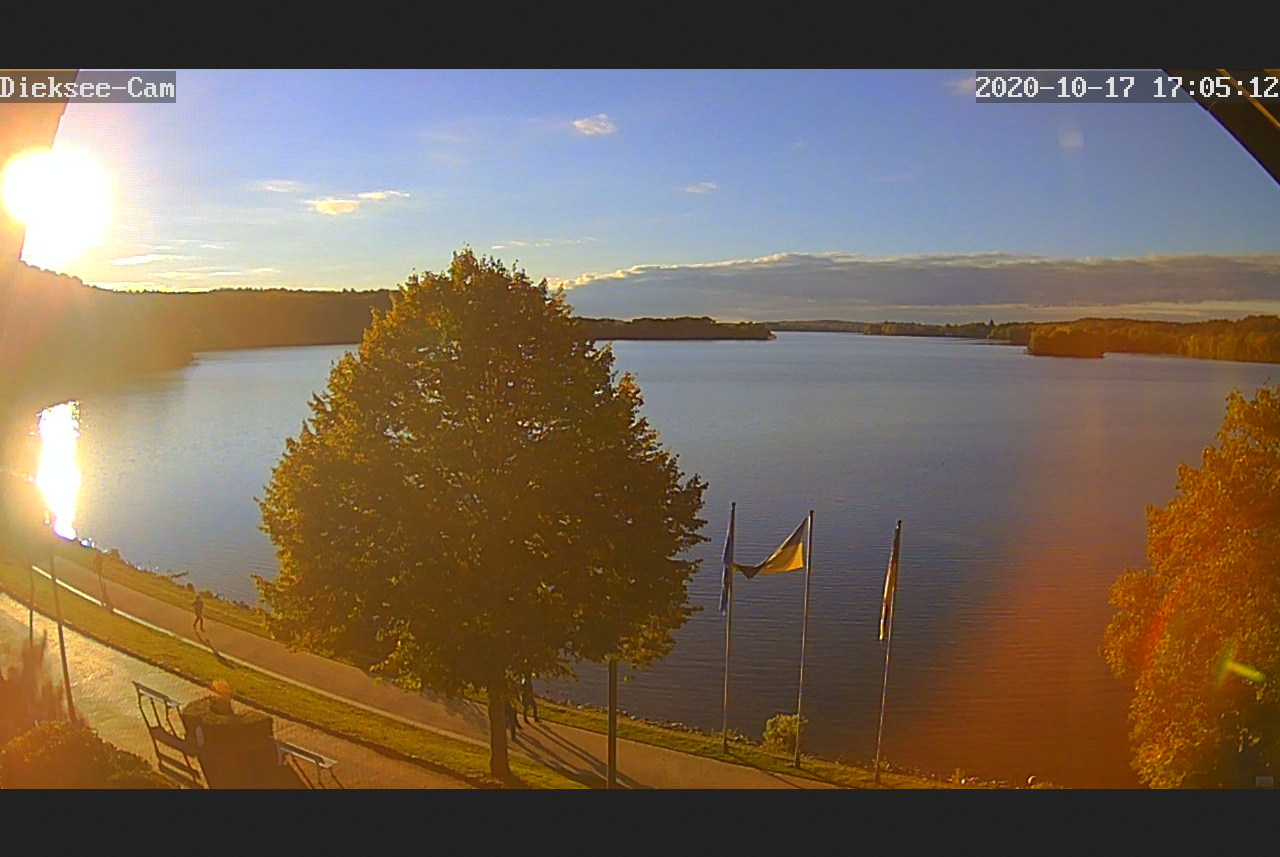maybe: (741, 516, 811, 578)
no: (881, 530, 897, 644), (718, 511, 731, 615)
